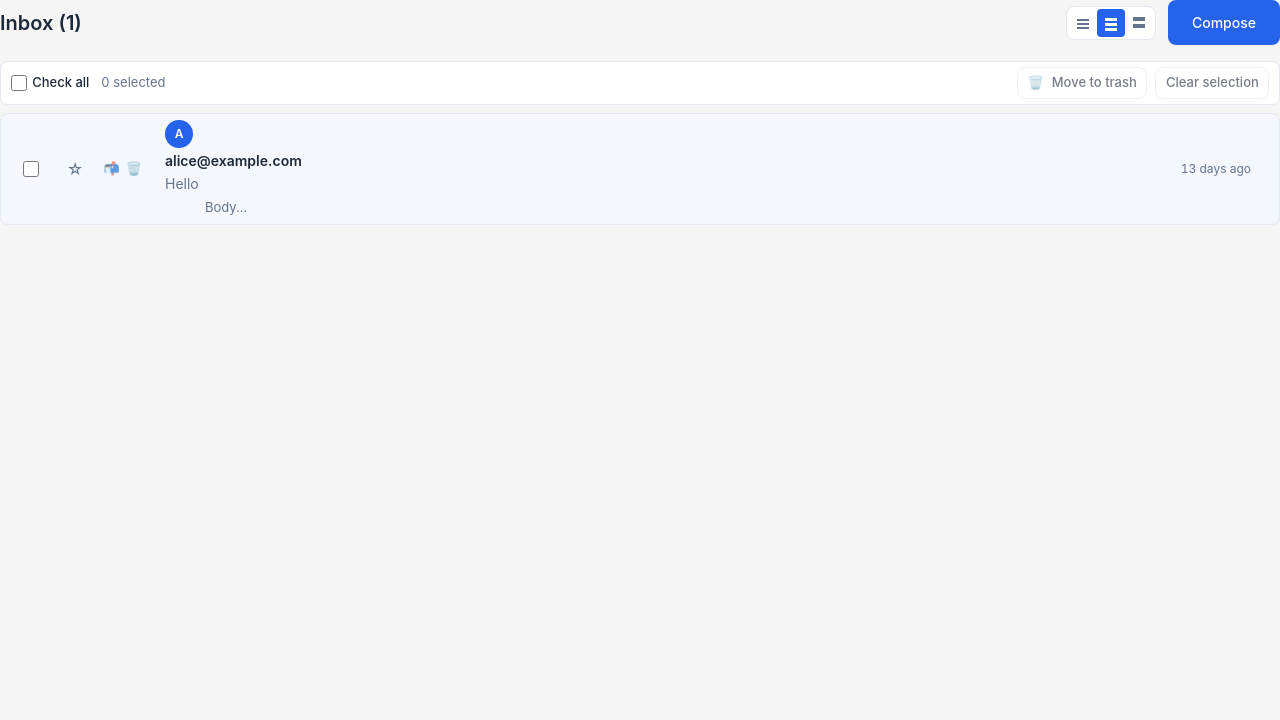
Test case: bulk trash actions › keeps the selection and reports an error when the bulk action fails
Step 1. Click the checkbox with class "row-checkbox" → (31, 169), box x1=23 y1=161 x2=39 y2=177
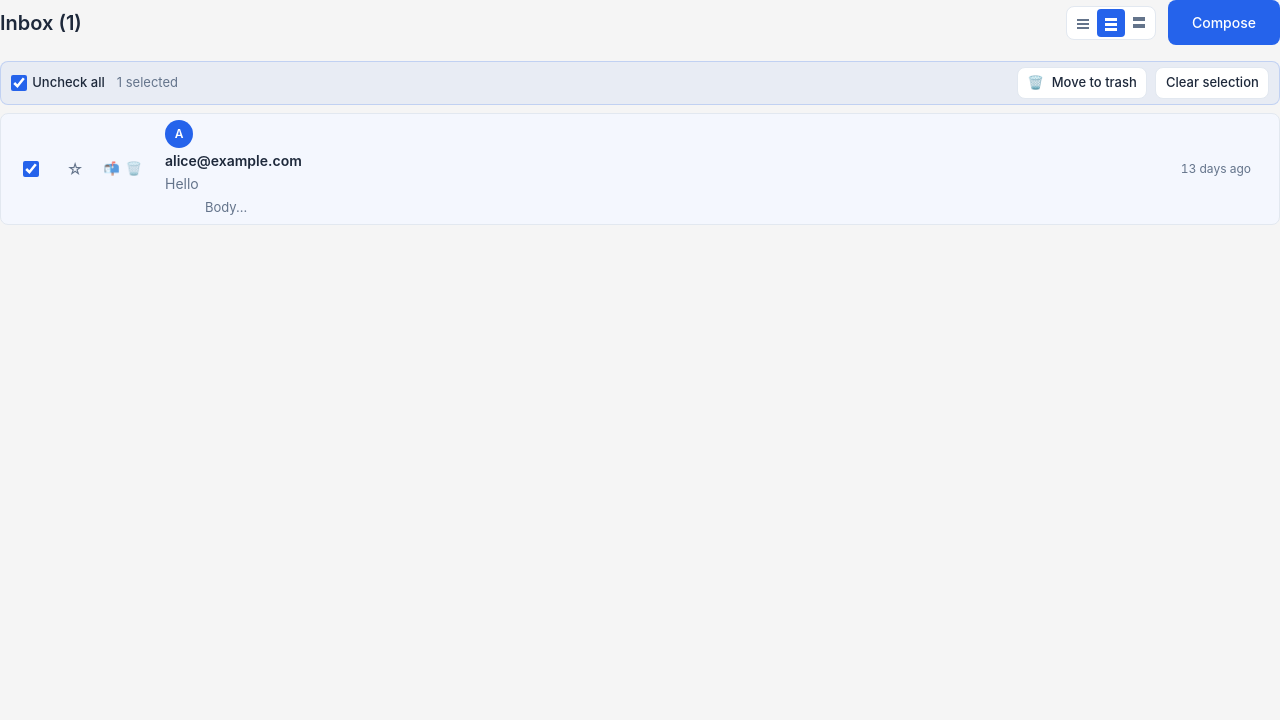
Step 2. Click the button "🗑️ Move to trash" → (1082, 83), box x1=1017 y1=67 x2=1147 y2=100
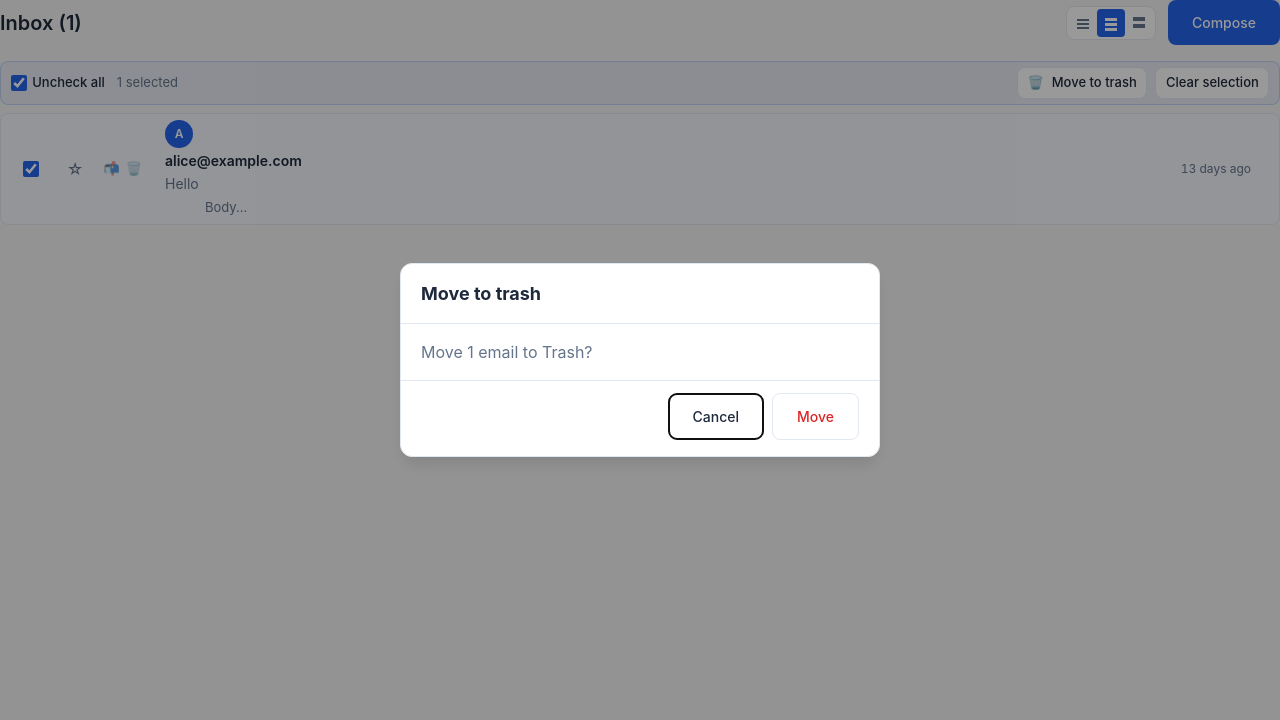
Step 3. Click the button "Move" → (816, 416), box x1=772 y1=393 x2=859 y2=440
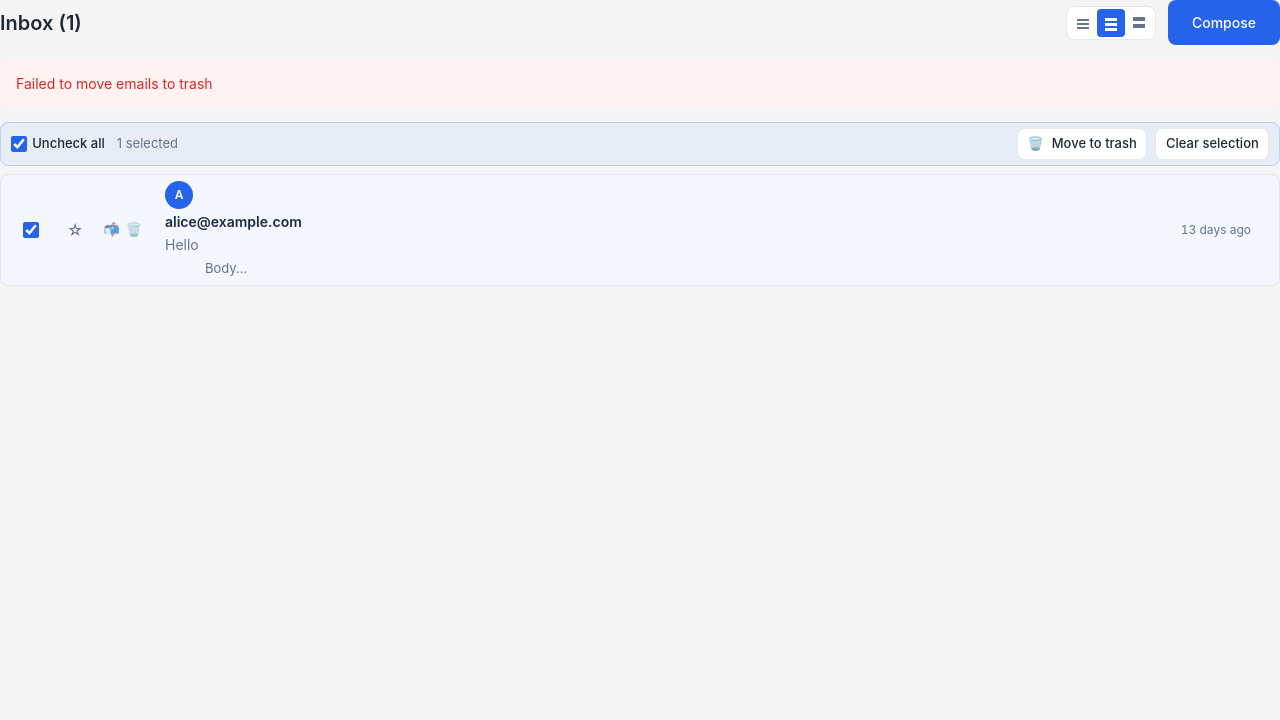
Expected: the text "1 selected" is shown, x1=117 y1=134 x2=178 y2=154
Expected: the text "Failed to move emails to trash" is shown, x1=0 y1=61 x2=1279 y2=106
